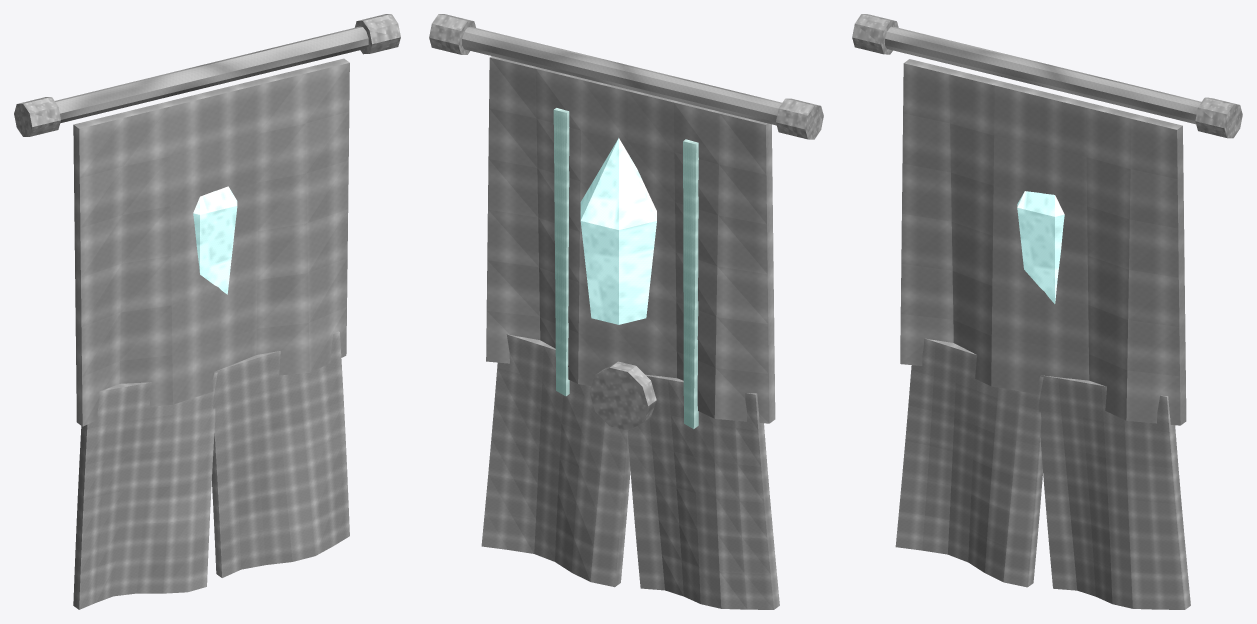
The model's file is crystal-banner-swallowtail-spirit.glb.
The picture shows the model from 3 angles, left to right: view 1: azimuth 30°, elevation 25°; view 2: azimuth 150°, elevation 25°; view 3: azimuth 330°, elevation 25°; orthographic projection. The views are drawn at different scales.
Visible parts, largest first — view 1: upper-field, left-tail, right-tail, top-rod, crystal-crest, left-cap, right-cap; view 2: upper-field, left-tail, right-tail, crystal-crest, top-rod, left-seam, right-seam, tail-ring, left-cap, right-cap; view 3: upper-field, right-tail, left-tail, top-rod, crystal-crest, right-cap, left-cap.
Part boxes in pixels (x1=…): upper-field: x1=73, y1=58, x2=349, y2=426; left-tail: x1=73, y1=372, x2=217, y2=609; right-tail: x1=212, y1=331, x2=349, y2=577; top-rod: x1=55, y1=26, x2=368, y2=123; crystal-crest: x1=193, y1=186, x2=237, y2=294; left-cap: x1=14, y1=97, x2=60, y2=136; right-cap: x1=355, y1=14, x2=400, y2=54; upper-field: x1=486, y1=56, x2=775, y2=423; left-tail: x1=627, y1=374, x2=779, y2=609; right-tail: x1=481, y1=334, x2=630, y2=587; crystal-crest: x1=580, y1=138, x2=656, y2=324; top-rod: x1=462, y1=27, x2=781, y2=125; left-seam: x1=683, y1=139, x2=698, y2=428; right-seam: x1=553, y1=108, x2=569, y2=396; tail-ring: x1=589, y1=361, x2=656, y2=430; left-cap: x1=776, y1=98, x2=823, y2=139; right-cap: x1=429, y1=14, x2=475, y2=54; upper-field: x1=900, y1=59, x2=1186, y2=425; right-tail: x1=1038, y1=375, x2=1190, y2=609; left-tail: x1=895, y1=338, x2=1043, y2=587; top-rod: x1=885, y1=26, x2=1201, y2=124; crystal-crest: x1=1017, y1=191, x2=1064, y2=303; right-cap: x1=1195, y1=97, x2=1242, y2=138; left-cap: x1=852, y1=14, x2=898, y2=54.
Size of the model in its own units: 1.28 by 1.72 by 0.2301.
Materials: 5 (5 with a texture image).
